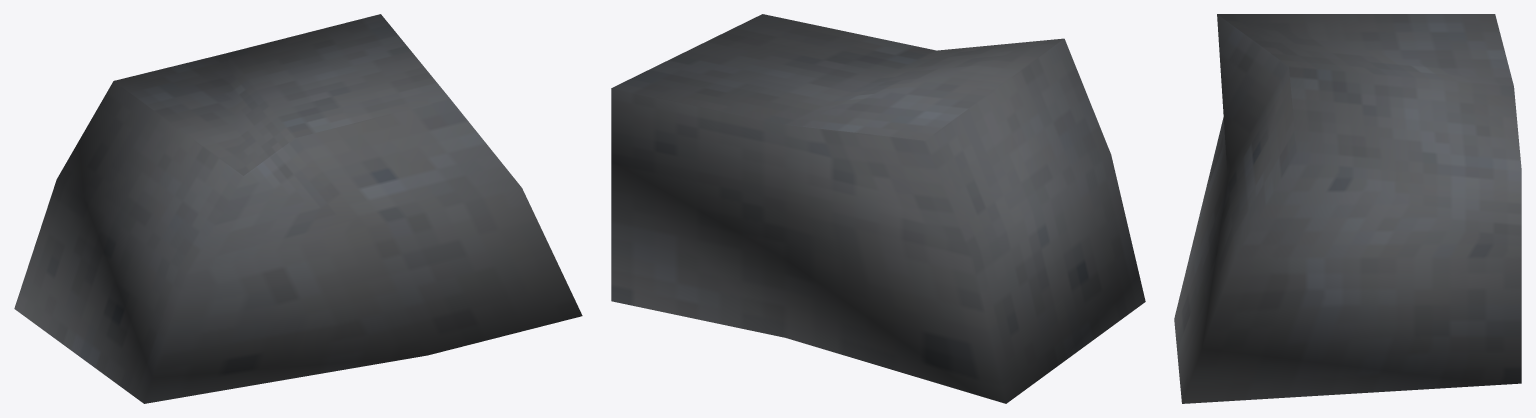
The model's file is pierre3.glb.
3 renders of one model, left to right at view 1: azimuth 30°, elevation 25°; view 2: azimuth 150°, elevation 25°; view 3: azimuth 270°, elevation 25°, orthographic. The views are drawn at different scales.
Parts seen in each view (by area): view 1: Cube.007; view 2: Cube.007; view 3: Cube.007.
Boxes of the visible parts, box(x1,y1,x2,y2) form: Cube.007: box(14, 14, 582, 403); Cube.007: box(611, 14, 1145, 403); Cube.007: box(1174, 14, 1521, 403).
Size of the model in its own units: 3.65 by 1.83 by 2.5.
1 material, 1 textured.
